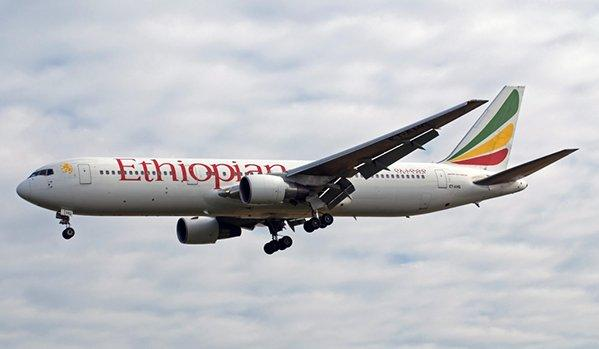airplane: (14, 83, 581, 246)
